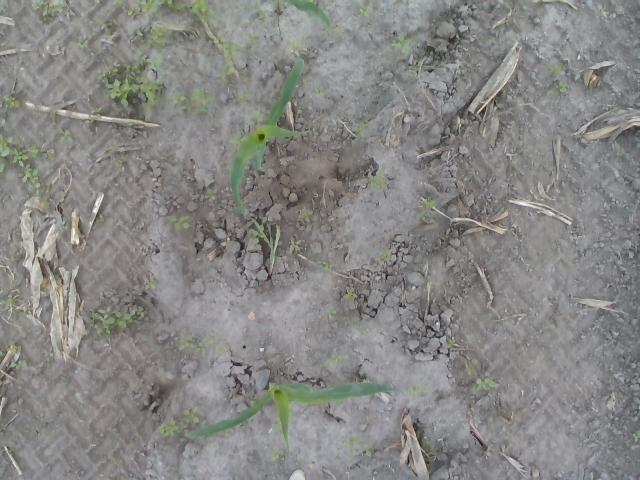Maize: (184, 378, 402, 450), (230, 59, 304, 219), (274, 0, 334, 33)
Weeds: (91, 48, 169, 116), (0, 134, 57, 208), (246, 216, 282, 278), (84, 304, 148, 336), (206, 29, 240, 79), (160, 406, 202, 439), (169, 87, 218, 115), (177, 331, 230, 355), (112, 0, 160, 19), (344, 436, 376, 458), (469, 367, 497, 392), (188, 0, 216, 24), (148, 19, 170, 49), (29, 0, 65, 17), (366, 166, 387, 194), (390, 32, 412, 58), (416, 199, 438, 223), (306, 77, 329, 98), (404, 384, 433, 400), (166, 214, 193, 231), (324, 351, 348, 370), (126, 23, 146, 44), (542, 80, 568, 96), (158, 0, 186, 14), (231, 90, 255, 106), (2, 93, 22, 112), (285, 36, 306, 54), (57, 126, 75, 146), (342, 286, 361, 304), (94, 18, 112, 36), (318, 258, 338, 274), (350, 122, 367, 139), (374, 246, 392, 262), (462, 358, 478, 376), (296, 206, 312, 224), (4, 340, 24, 354), (322, 307, 338, 322), (288, 238, 302, 255), (143, 275, 158, 290), (548, 62, 562, 78), (206, 188, 219, 204), (8, 359, 28, 369), (249, 109, 262, 124), (269, 451, 282, 465), (247, 34, 258, 50), (224, 134, 241, 144), (78, 34, 90, 48), (597, 2, 609, 16), (44, 350, 53, 368), (0, 296, 17, 305), (358, 323, 369, 335), (445, 338, 457, 349), (358, 4, 369, 16), (632, 429, 640, 442), (420, 438, 430, 448), (113, 158, 123, 168), (511, 158, 521, 168), (8, 255, 17, 264), (0, 350, 6, 358)
